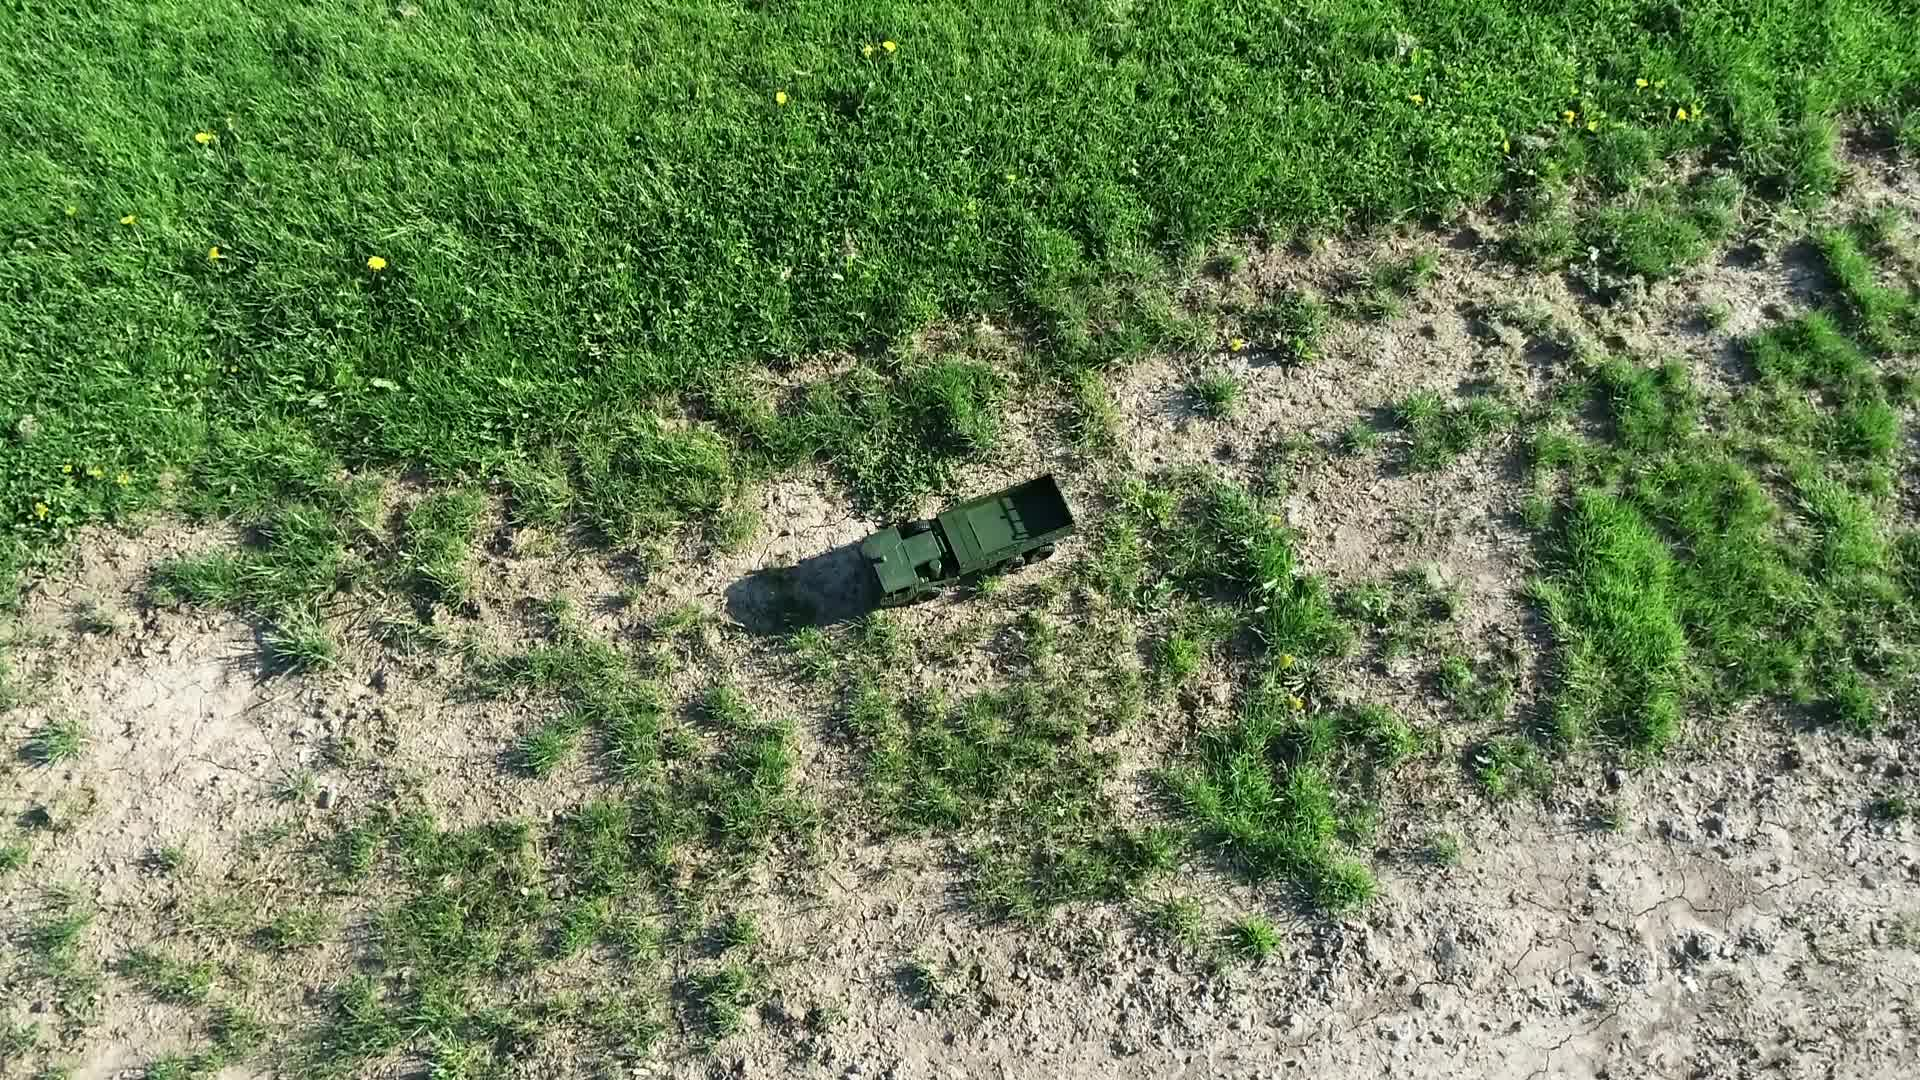transporter9: (852, 471, 1083, 608)
